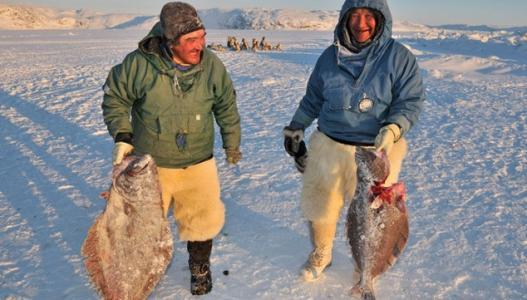up: (86, 4, 251, 293), (281, 1, 432, 272)
